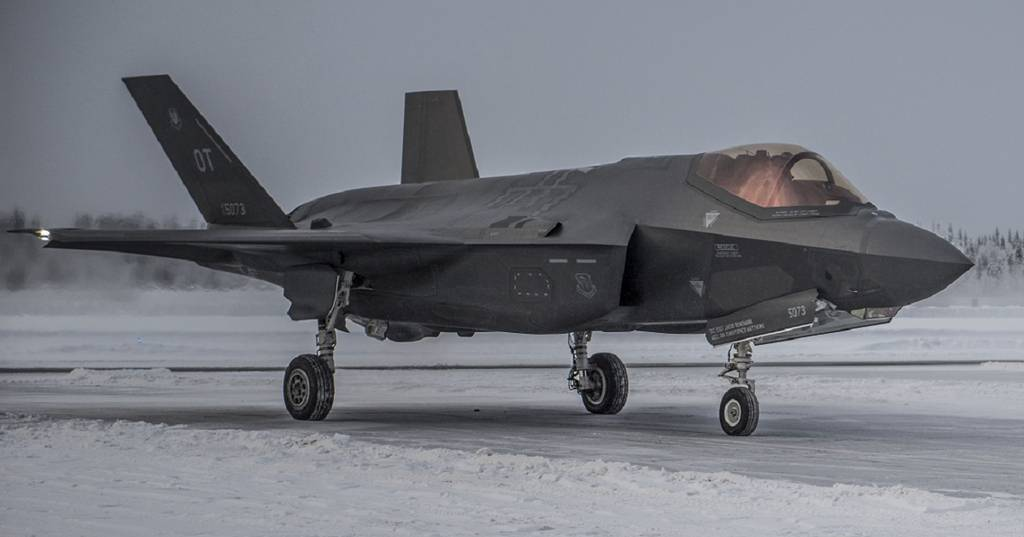F35: (7, 73, 975, 438)
